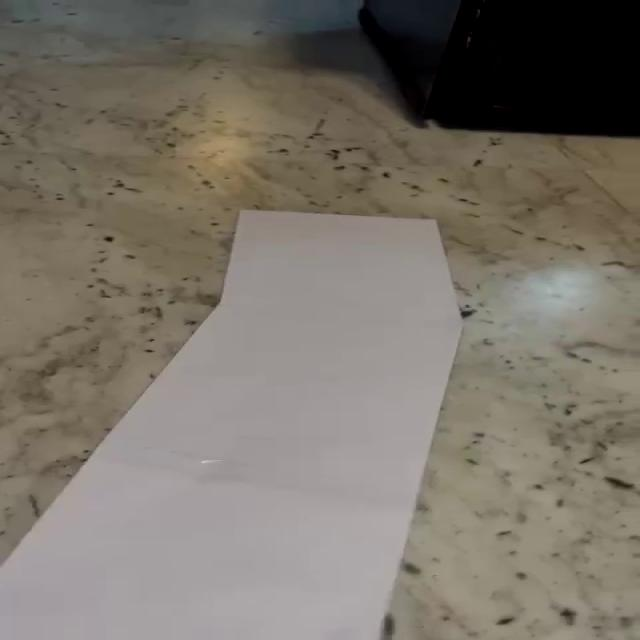road: (1, 212, 461, 640)
